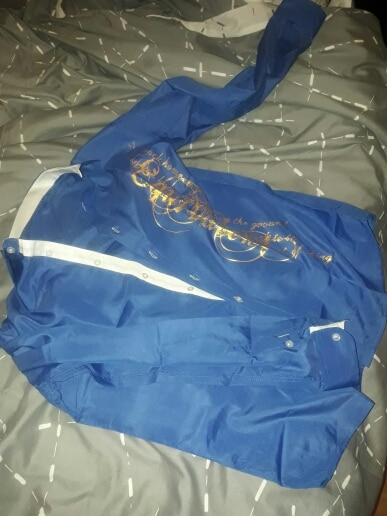shirts: (7, 7, 387, 487)
